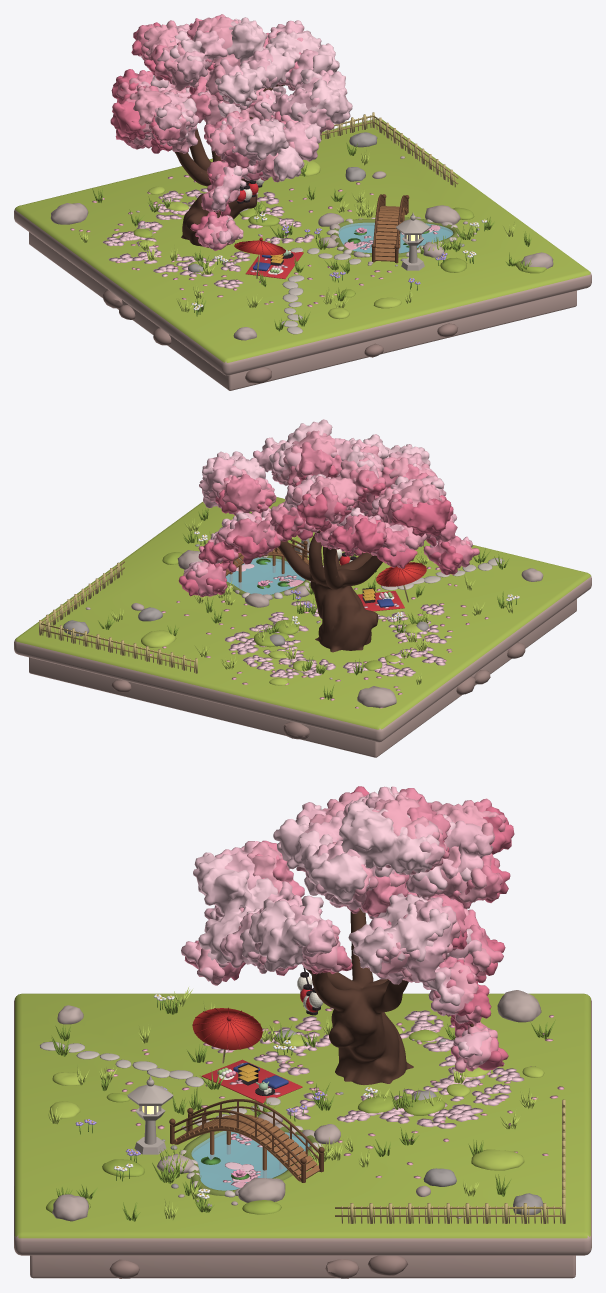
The model's file is sakura.glb.
3 renders of one model, top to bottom at view 1: azimuth 30°, elevation 25°; view 2: azimuth 150°, elevation 25°; view 3: azimuth 270°, elevation 25°, orthographic. The views are drawn at different scales.
Parts seen in each view (by area): view 1: Base, Blossoms, Grass, Petals, Rocks, Trunk, Bridge, Fence, SteppingStones, Pond, Water, Picnic (+3 smaller); view 2: Base, Blossoms, Trunk, Grass, Petals, Fence, Rocks, Water, Parasol, Picnic, Bridge, SteppingStones (+2 smaller); view 3: Base, Blossoms, Grass, Trunk, Petals, Rocks, Bridge, Fence, Water, Parasol, Picnic, Lantern (+3 smaller).
Boxes of the visible parts, x1,y1,x2,y2 form: Base: (14, 118, 591, 390); Blossoms: (110, 14, 352, 250); Grass: (78, 143, 546, 331); Petals: (70, 175, 440, 307); Rocks: (50, 132, 553, 340); Trunk: (174, 84, 284, 247); Bridge: (371, 194, 409, 263); Fence: (320, 112, 458, 187); SteppingStones: (281, 247, 361, 334); Pond: (326, 216, 459, 257); Water: (338, 222, 453, 253); Picnic: (245, 249, 303, 278); Base: (14, 497, 591, 757); Blossoms: (178, 419, 479, 597); Trunk: (269, 510, 382, 652); Grass: (98, 508, 512, 699); Petals: (148, 564, 488, 708); Fence: (39, 561, 197, 673); Rocks: (63, 543, 543, 707); Water: (226, 557, 304, 594); Parasol: (376, 562, 426, 602); Picnic: (357, 588, 404, 611); Bridge: (220, 539, 308, 588); SteppingStones: (380, 558, 504, 590); Base: (14, 993, 591, 1278); Blossoms: (181, 786, 514, 1072); Grass: (46, 987, 555, 1221); Trunk: (297, 908, 473, 1084); Petals: (106, 1007, 564, 1187); Rocks: (52, 990, 542, 1221); Bridge: (169, 1099, 324, 1182); Fence: (335, 1099, 565, 1223); Water: (191, 1131, 309, 1190); Parasol: (192, 1007, 262, 1063); Picnic: (201, 1059, 302, 1103); Lantern: (127, 1075, 173, 1154).
Bounding box in the file's own units: 72 × 45.97 × 72.
